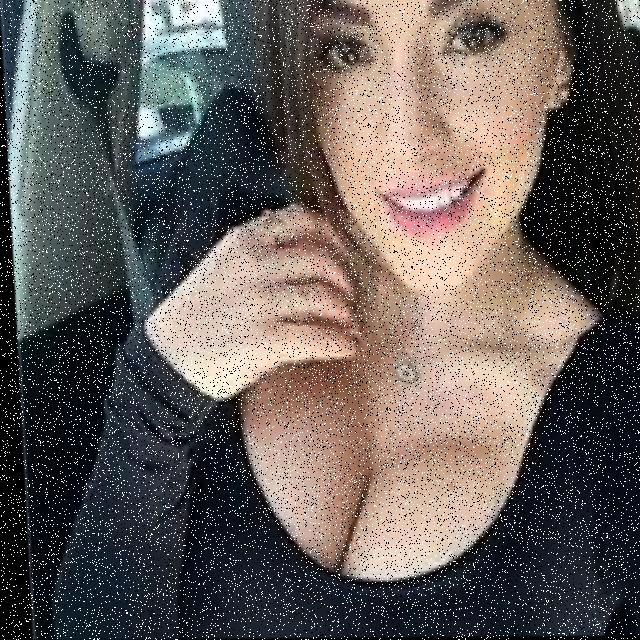noSeatbelt: (152, 205, 640, 639)
